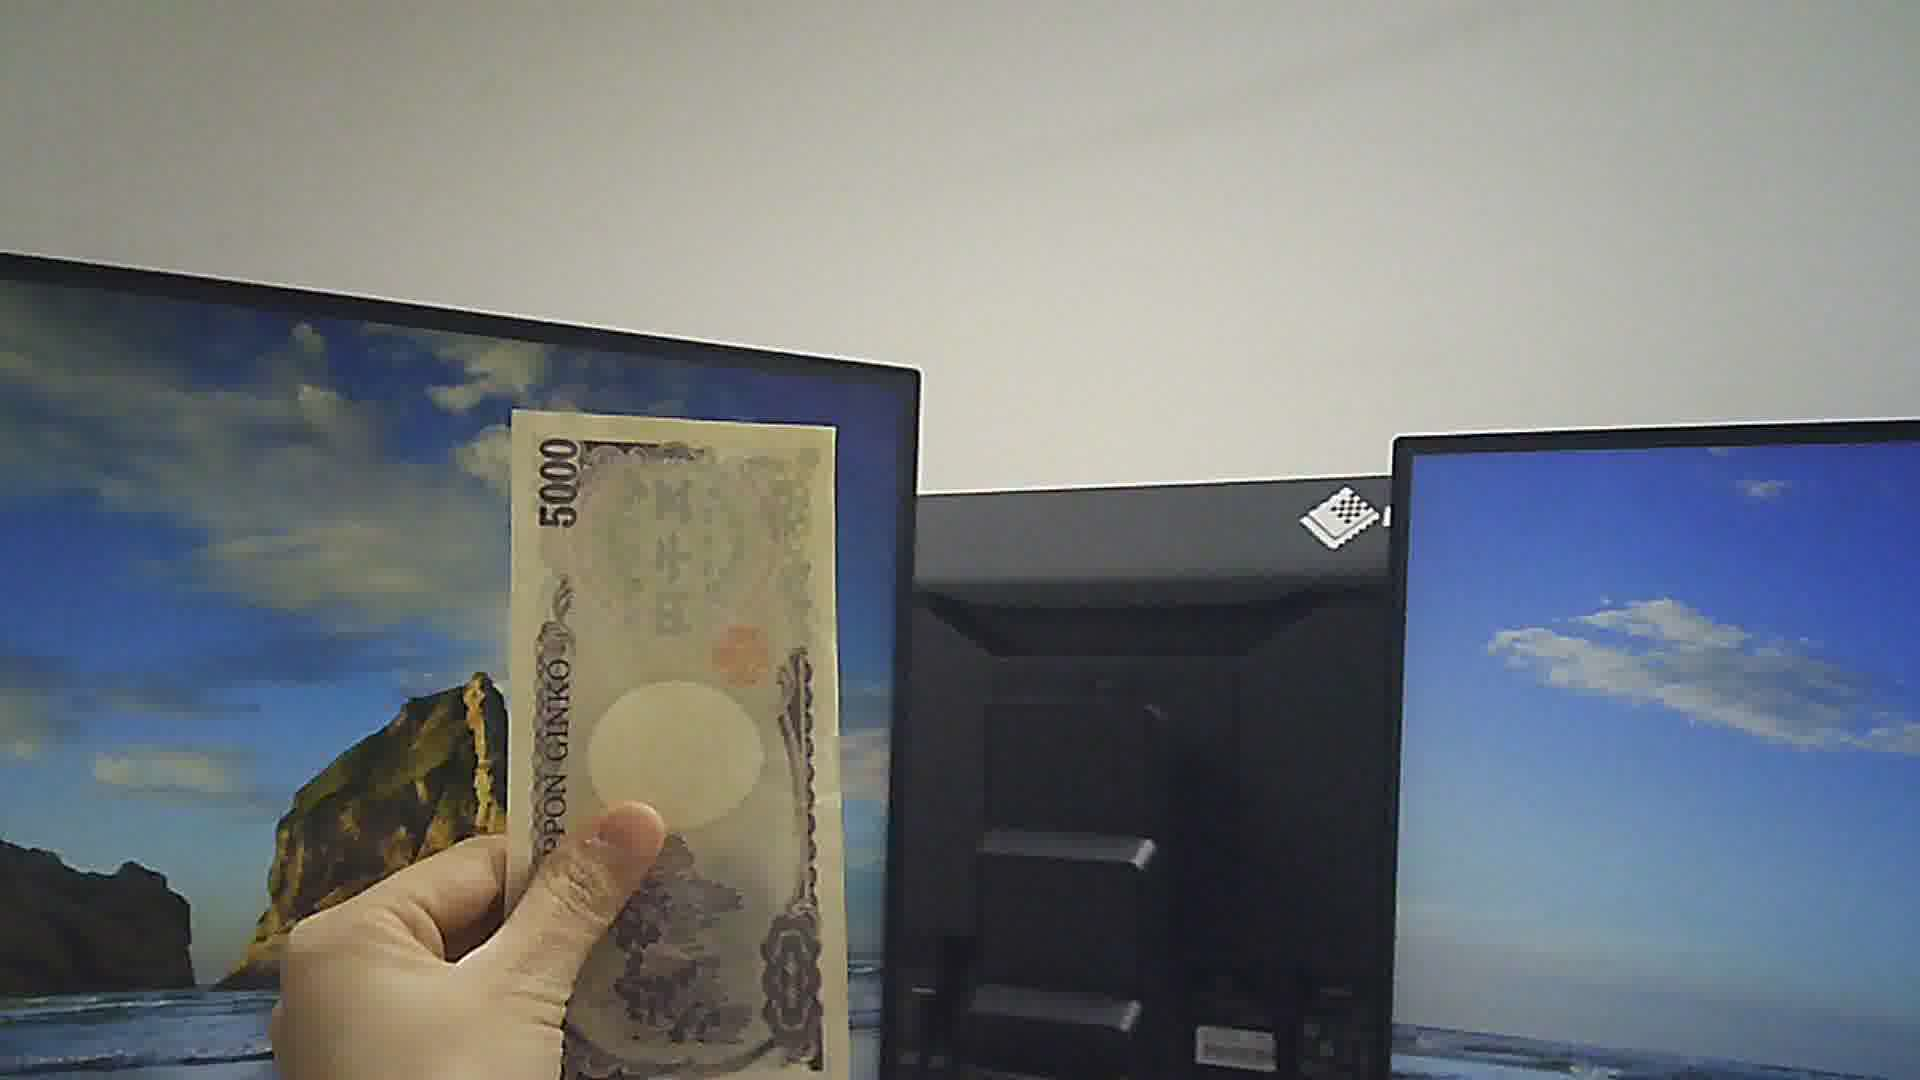5,000 Yen: (469, 396, 865, 1079)
